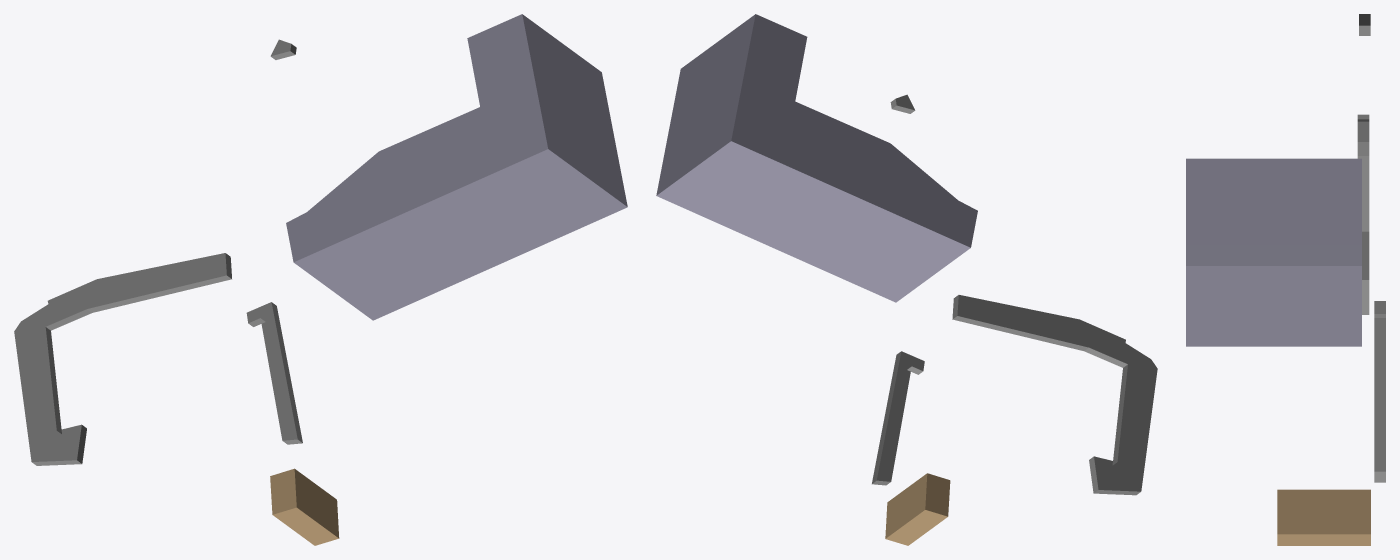
The picture shows the model from 3 angles, left to right: view 1: azimuth 30°, elevation 25°; view 2: azimuth 150°, elevation 25°; view 3: azimuth 270°, elevation 25°; orthographic projection. The views are drawn at different scales.
Visible parts, largest first — view 1: 0_0_3_2_0_1_2; view 2: 0_0_3_2_0_1_2; view 3: 0_0_3_2_0_1_2.
Boxes of the visible parts, x1,y1,x2,y2 form: 0_0_3_2_0_1_2: (14,14,627,545); 0_0_3_2_0_1_2: (656,14,1157,545); 0_0_3_2_0_1_2: (1186,14,1385,545).
Size of the model in its own units: 173 by 148 by 51.1.
